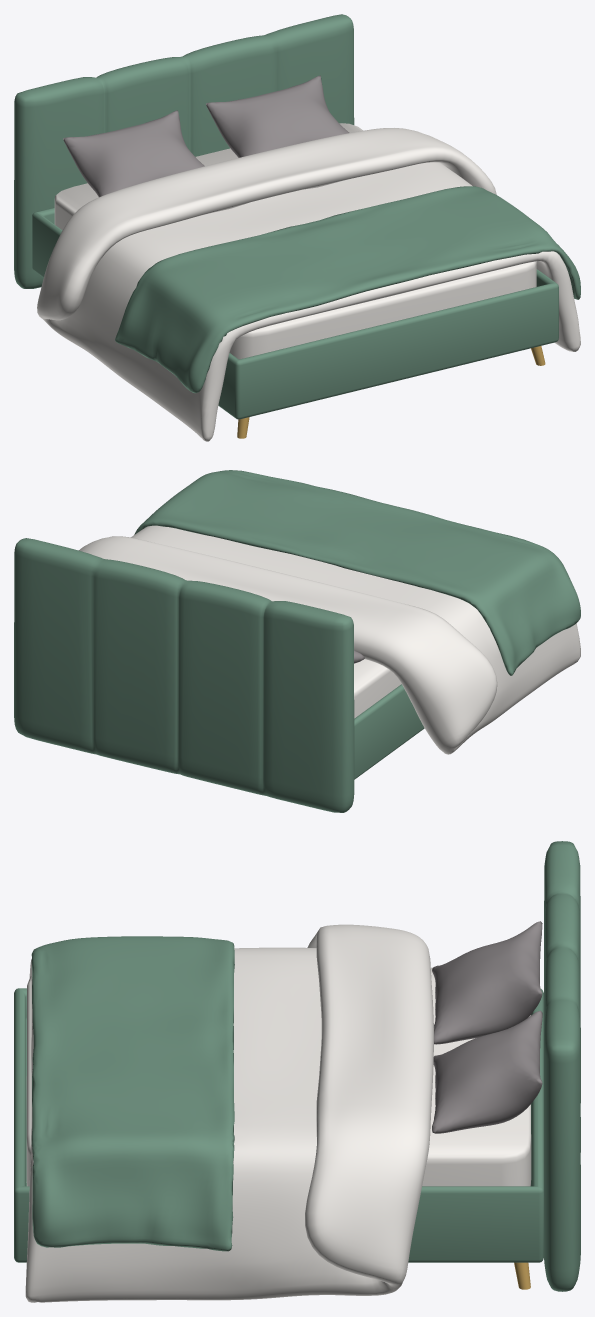
File: bed_green.glb
The picture shows the model from 3 angles, top to bottom: view 1: azimuth 30°, elevation 25°; view 2: azimuth 150°, elevation 25°; view 3: azimuth 270°, elevation 25°; orthographic projection. The views are drawn at different scales.
Parts seen in each view (by area): view 1: OBJ_Bed_Blanket; view 2: OBJ_Bed_Blanket; view 3: OBJ_Bed_Blanket.
Boxes of the visible parts, x1,y1,x2,y2 form: OBJ_Bed_Blanket: [14, 14, 580, 441]; OBJ_Bed_Blanket: [14, 470, 580, 812]; OBJ_Bed_Blanket: [14, 841, 580, 1302].
Size of the model in its own units: 2.56 by 1.1 by 2.25.
